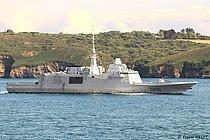MIL_Ship: (5, 42, 199, 95)
